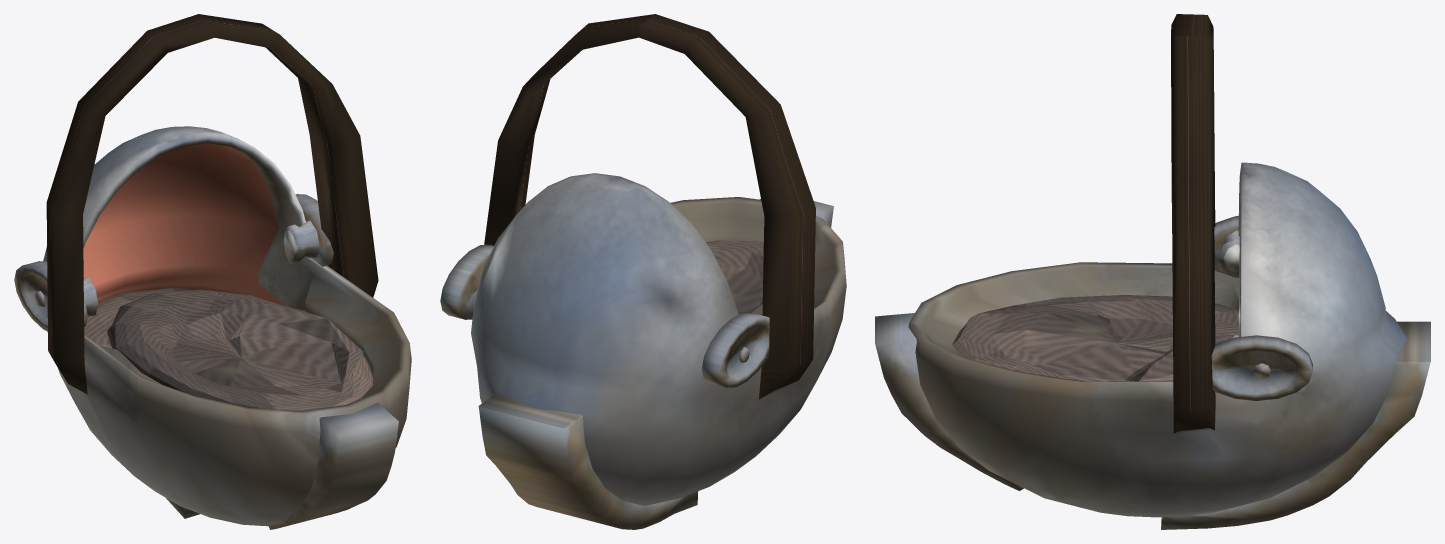
File: WorldItem-GroguCarriageEmpty.fbx
3 views of the same model, side by side, from view 1: azimuth 30°, elevation 25°; view 2: azimuth 150°, elevation 25°; view 3: azimuth 270°, elevation 25° (orthographic).
Parts seen in each view (by area): view 1: Grogu.001; view 2: Grogu.001; view 3: Grogu.001.
Part boxes in pixels (x1,y1,x2,y2): Grogu.001: (14,14,411,529); Grogu.001: (440,14,846,529); Grogu.001: (875,14,1430,529).
Bounding box in the file's own units: 0.3212 × 0.4539 × 0.4781.
